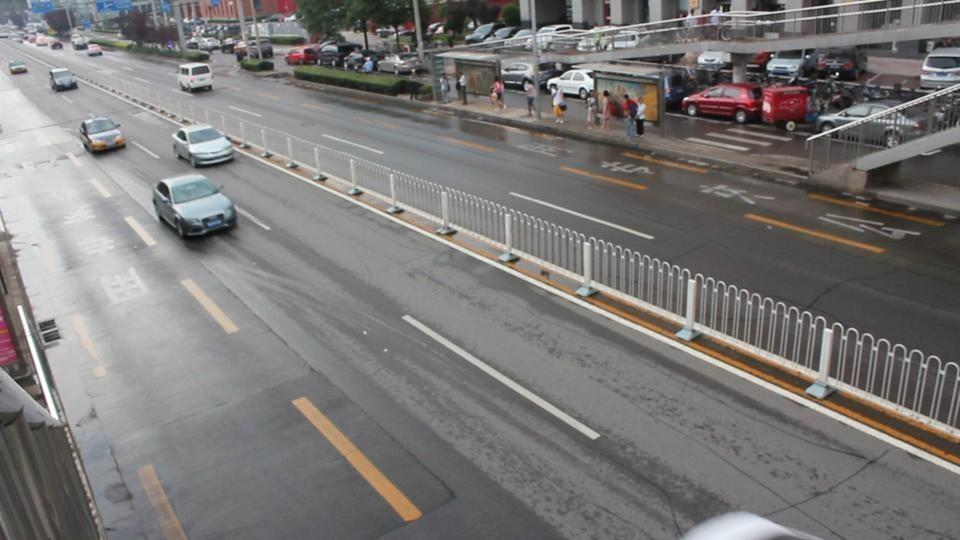car: (151, 172, 238, 239), (816, 100, 930, 147), (681, 83, 766, 123), (170, 124, 234, 167), (501, 60, 566, 92), (798, 49, 862, 80), (78, 115, 128, 154), (920, 47, 960, 90), (532, 26, 592, 52), (766, 49, 816, 80), (464, 24, 529, 47), (547, 70, 595, 100), (375, 53, 427, 76), (177, 62, 214, 93), (47, 67, 77, 93), (285, 46, 319, 65), (8, 60, 30, 75)
